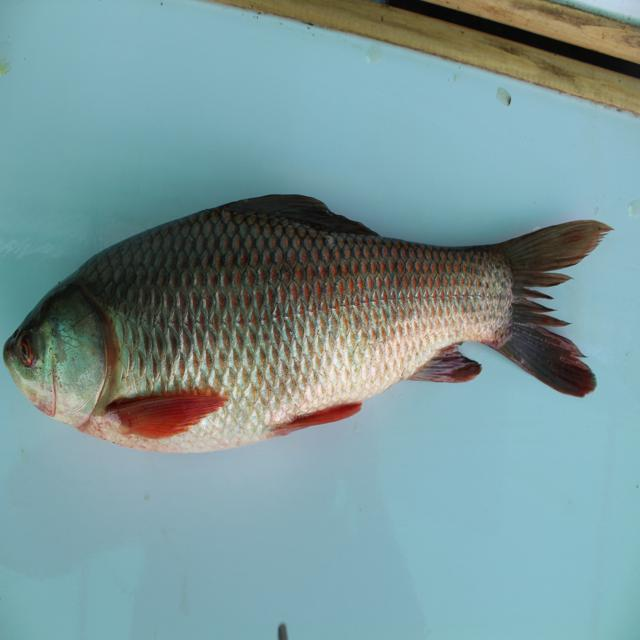Rohu: (8, 181, 600, 461)
